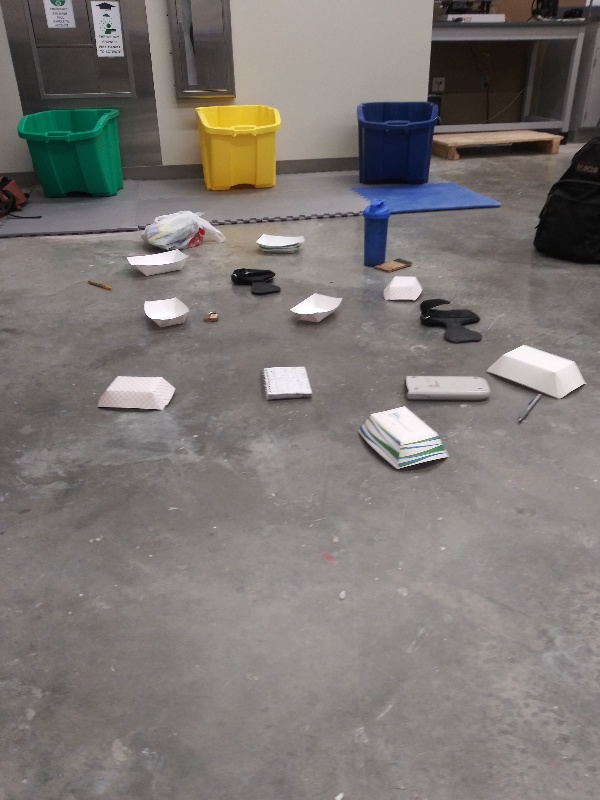plate: (353, 402, 452, 478), (483, 342, 590, 405), (91, 370, 181, 419), (123, 244, 192, 282), (286, 289, 348, 324), (142, 296, 191, 332), (252, 230, 309, 258), (377, 272, 424, 305)
